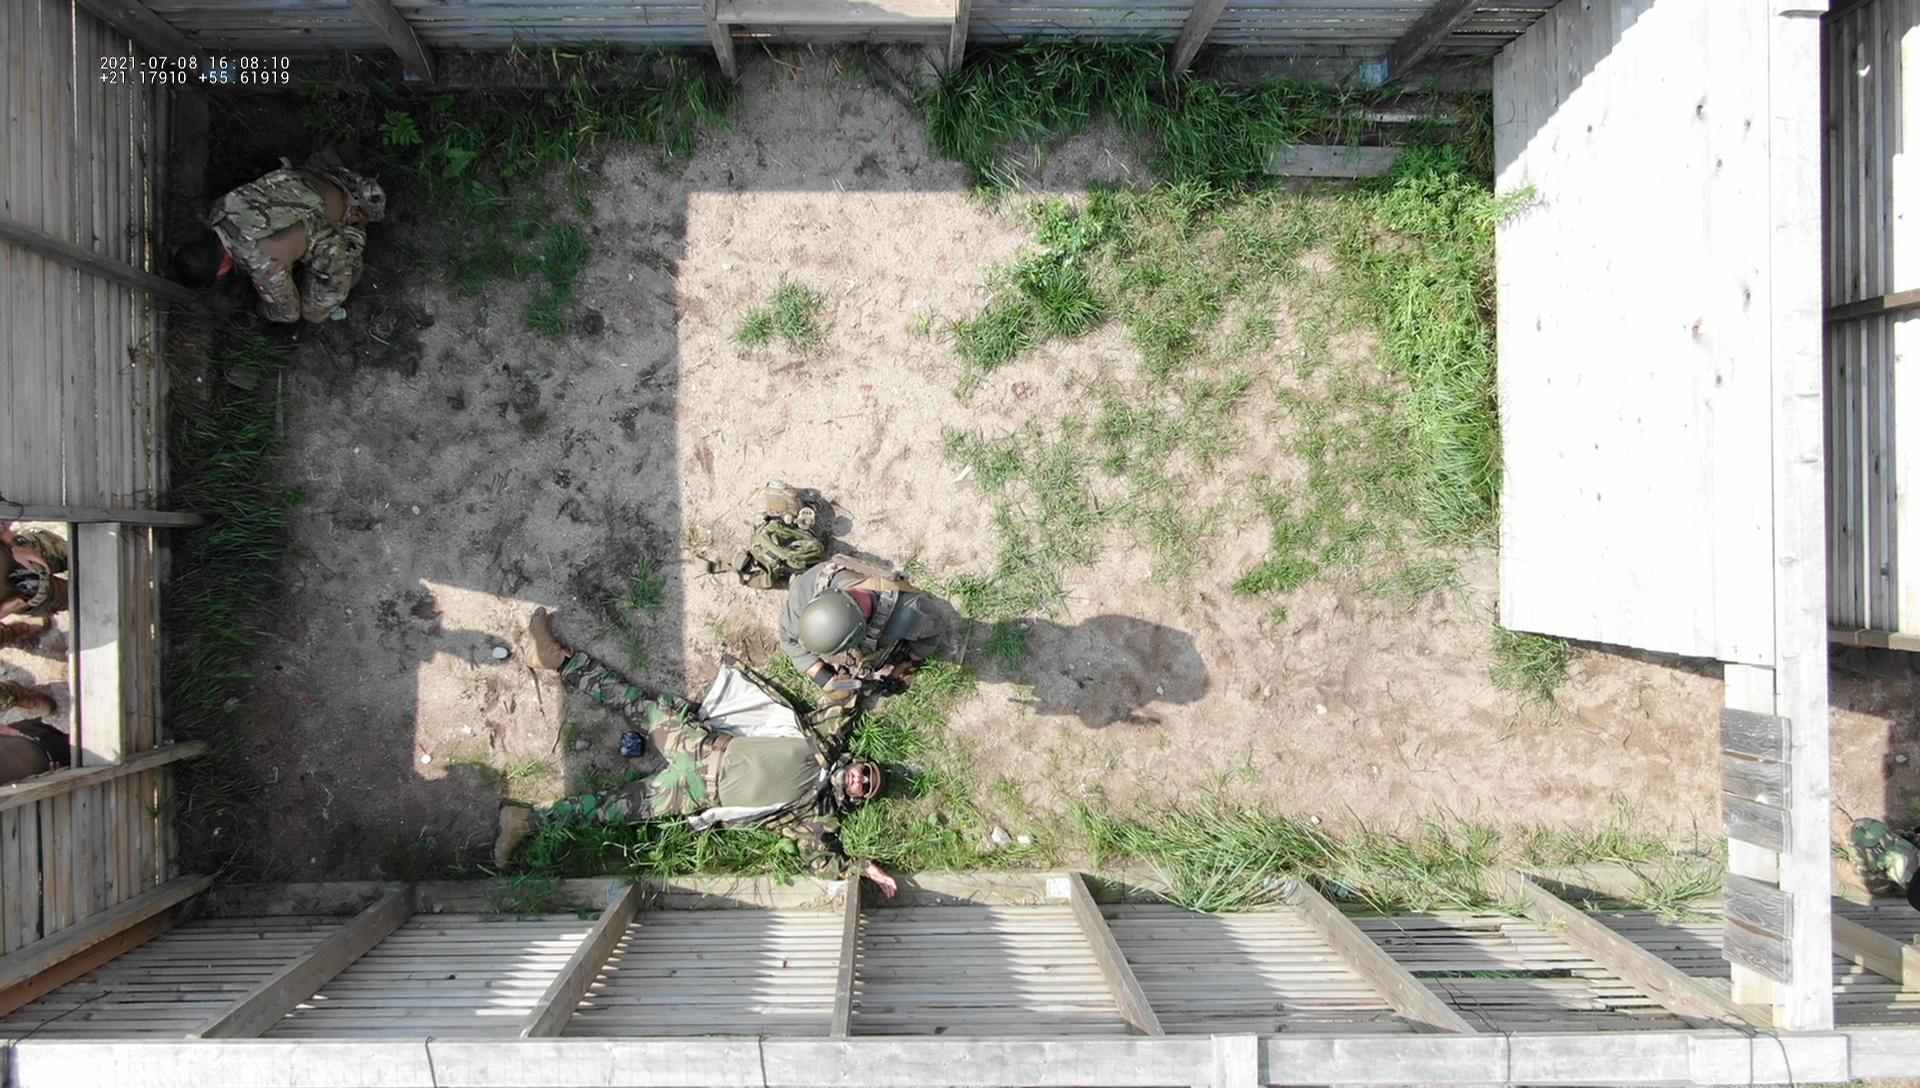Soldier: (518, 659, 909, 923), (178, 135, 396, 344), (771, 563, 976, 711)
